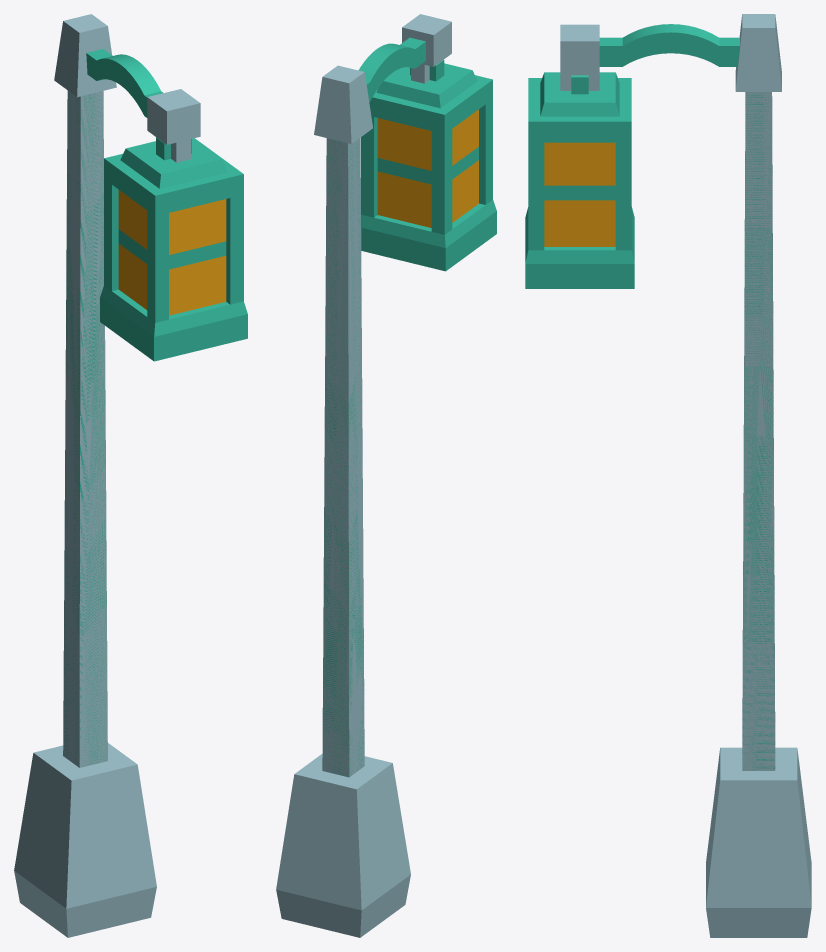
Rendered from lightpostSingle.obj.
3 views of the same model, side by side, from view 1: azimuth 30°, elevation 25°; view 2: azimuth 150°, elevation 25°; view 3: azimuth 270°, elevation 25° (orthographic). The views are drawn at different scales.
Parts seen in each view (by area): view 1: lightpostSingle; view 2: lightpostSingle; view 3: lightpostSingle.
Part boxes in pixels (bbox=[...]): lightpostSingle: bbox=[14, 14, 247, 937]; lightpostSingle: bbox=[276, 14, 496, 937]; lightpostSingle: bbox=[525, 14, 811, 937].
Bounding box in the file's own units: 0.1459 × 1.32 × 0.3818.
